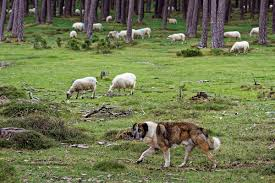sheep: (65, 72, 101, 104), (107, 73, 137, 97), (229, 36, 253, 57), (164, 30, 190, 47), (215, 27, 242, 41), (66, 27, 88, 41), (113, 25, 132, 41), (68, 18, 86, 32), (134, 28, 153, 40), (163, 16, 183, 27), (244, 27, 264, 38), (88, 22, 107, 32), (106, 14, 119, 25)
